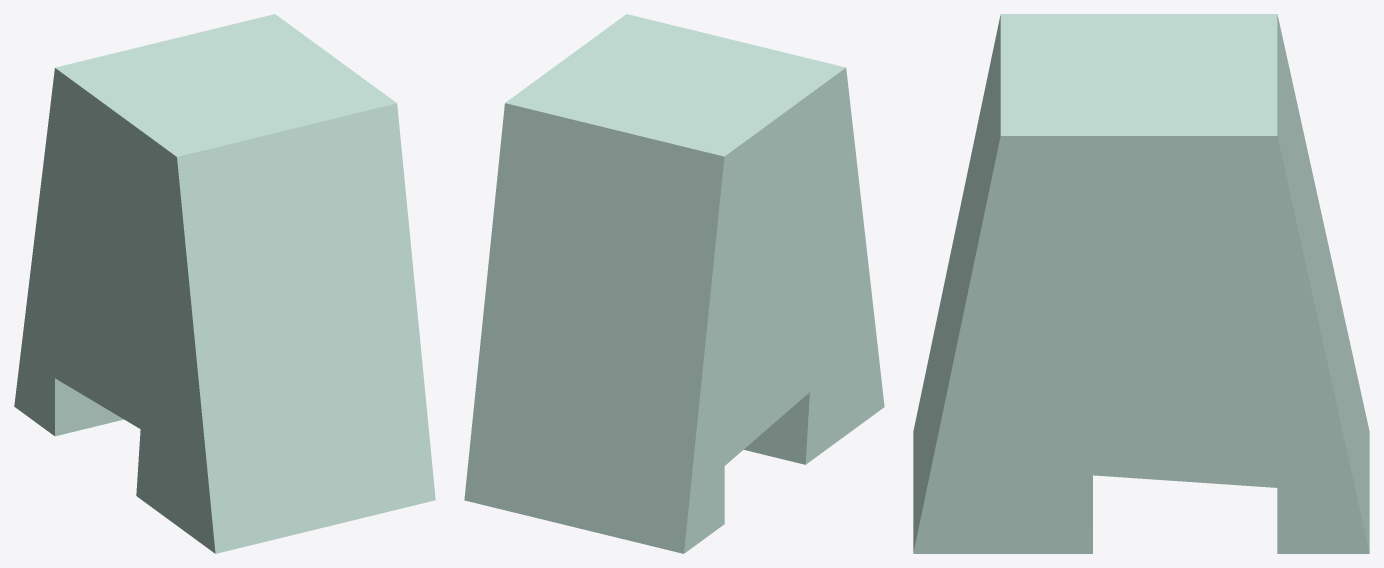
3 renders of one model, left to right at view 1: azimuth 30°, elevation 25°; view 2: azimuth 150°, elevation 25°; view 3: azimuth 270°, elevation 25°, orthographic. The views are drawn at different scales.
Parts seen in each view (by area): view 1: Renderer Node; view 2: Renderer Node; view 3: Renderer Node.
Boxes of the visible parts, x1,y1,x2,y2 form: Renderer Node: (14, 14, 435, 553); Renderer Node: (464, 14, 884, 553); Renderer Node: (913, 14, 1369, 553).
Bounding box in the file's own units: 0.4688 × 0.75 × 0.7421.
